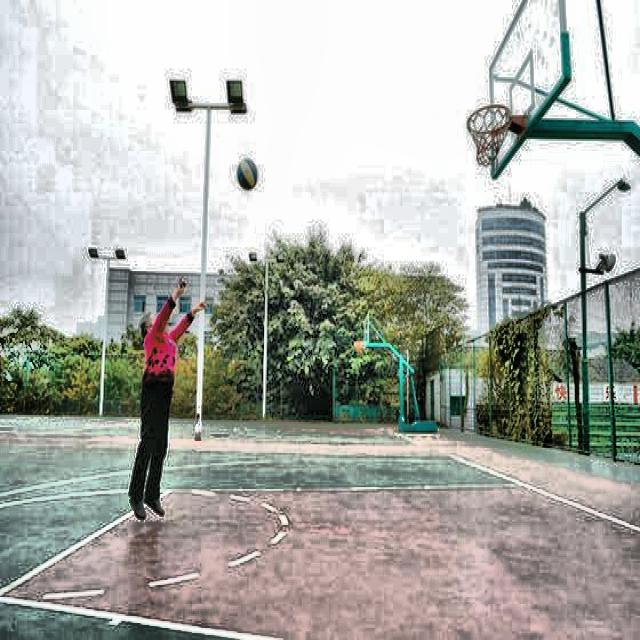rim: (468, 102, 511, 166)
